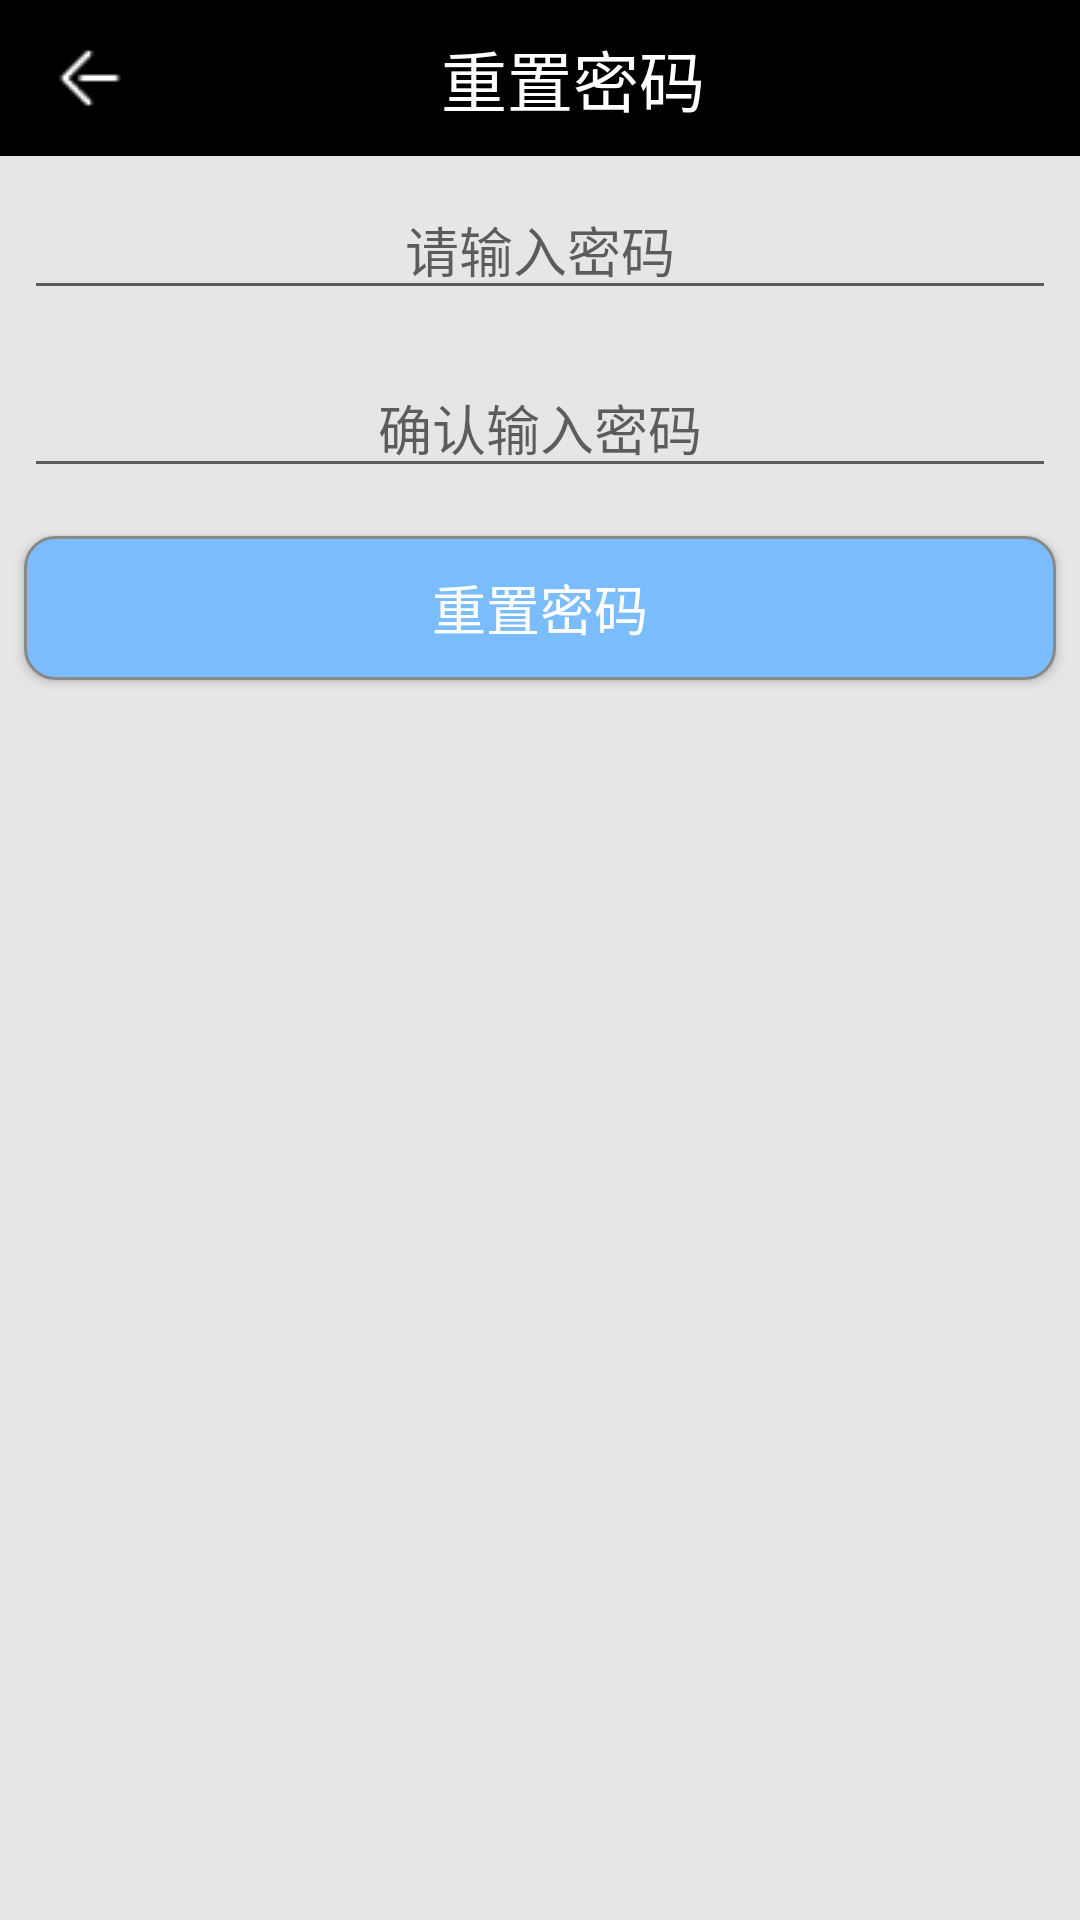

Named icons in this screenshot (1080*1920) and their bounding boxes, bbox=[x1, y1, x2, y2]:
back: bbox=[59, 50, 121, 106]
